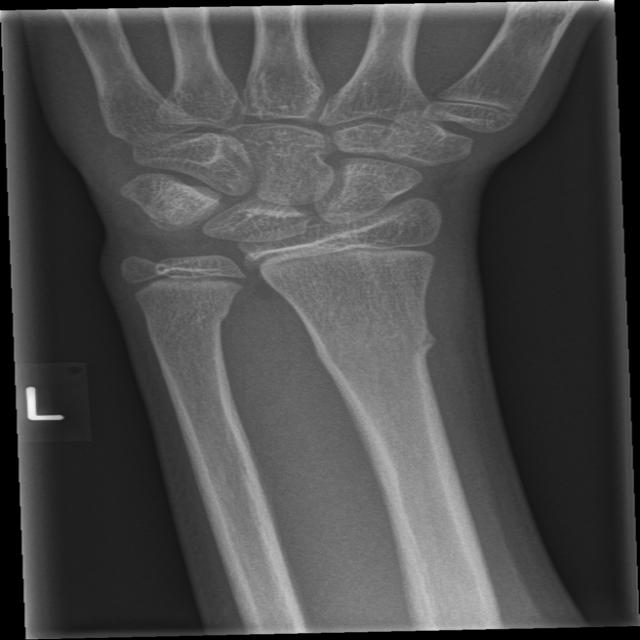radius fracture: (334, 283, 481, 399)
